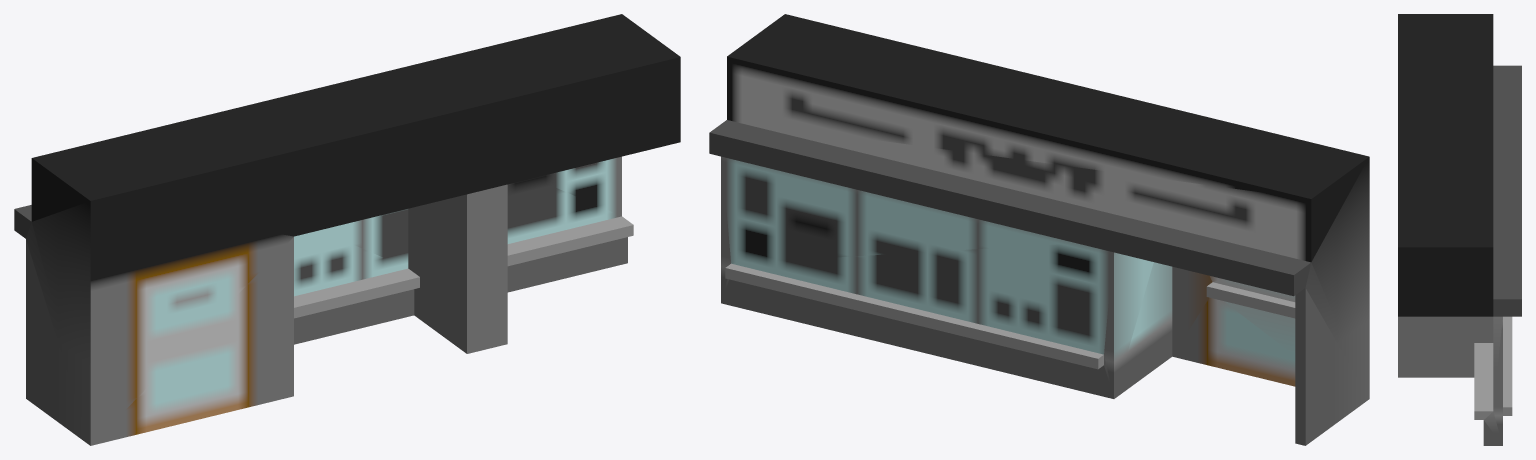
The model's file is obj_store3.dae.
The picture shows the model from 3 angles, left to right: view 1: azimuth 30°, elevation 25°; view 2: azimuth 150°, elevation 25°; view 3: azimuth 270°, elevation 25°; orthographic projection. The views are drawn at different scales.
Parts seen in each view (by area): view 1: obj_store3; view 2: obj_store3; view 3: obj_store3.
Boxes of the visible parts, <box> form: obj_store3: <box>14,14,680,445</box>; obj_store3: <box>709,14,1369,445</box>; obj_store3: <box>1398,14,1521,445</box>.
Bounding box in the file's own units: 5.8 × 1.3 × 2.3.
Materials: 1 (1 with a texture image).
